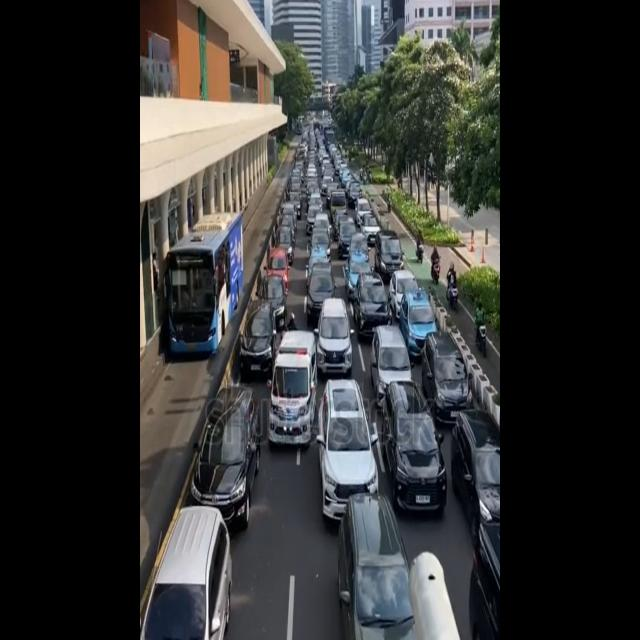Ambulance: (268, 316, 320, 464)
